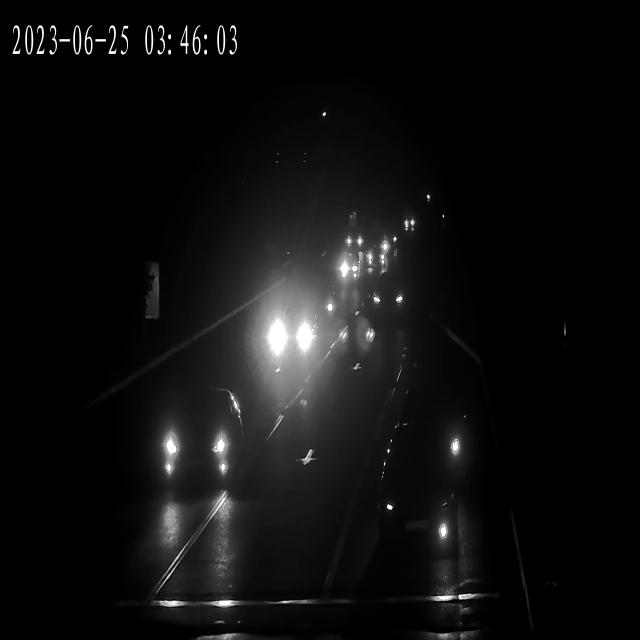Car: (150, 385, 247, 492), (370, 460, 463, 559), (387, 375, 464, 473), (261, 309, 319, 365), (369, 282, 406, 316), (374, 228, 398, 263), (363, 247, 387, 268), (336, 259, 361, 279), (342, 231, 366, 251)
